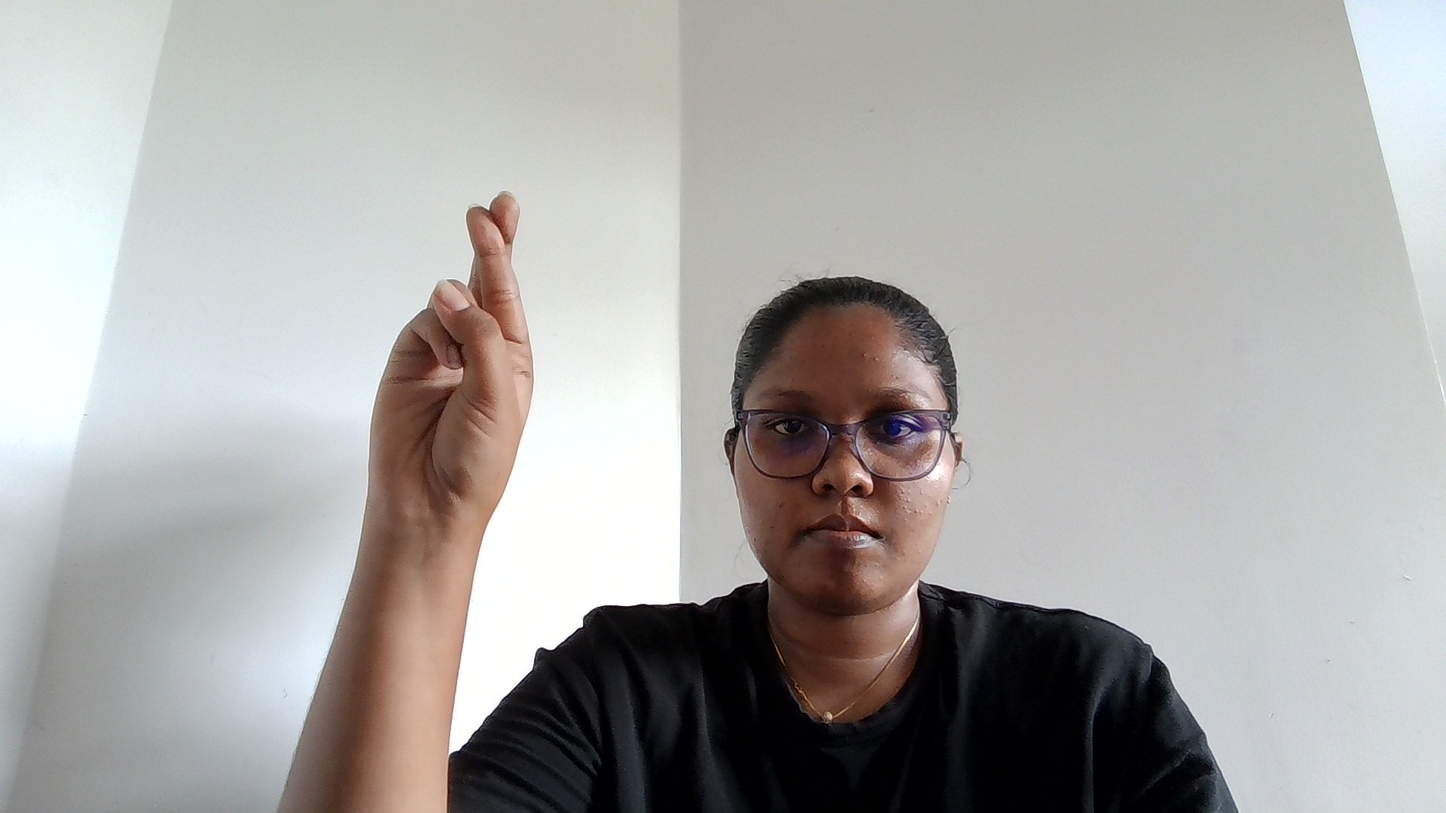Good_Luck: (318, 160, 701, 620)
